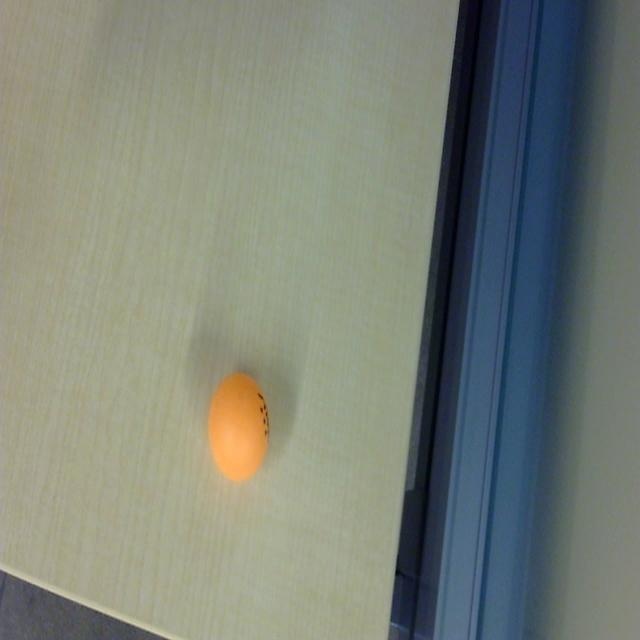ball: (206, 372, 270, 484)
